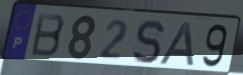2: (97, 18, 130, 61)
8: (66, 14, 97, 62)
9: (201, 23, 229, 68)
A: (157, 20, 197, 68)
B: (29, 12, 67, 59)
S: (131, 18, 166, 65)
